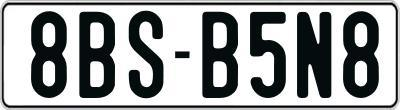5: (249, 11, 286, 102)
8: (340, 10, 380, 103), (30, 9, 70, 98)
B: (200, 10, 241, 97), (76, 11, 115, 97)
N: (297, 9, 333, 99)
S: (129, 8, 163, 95)
